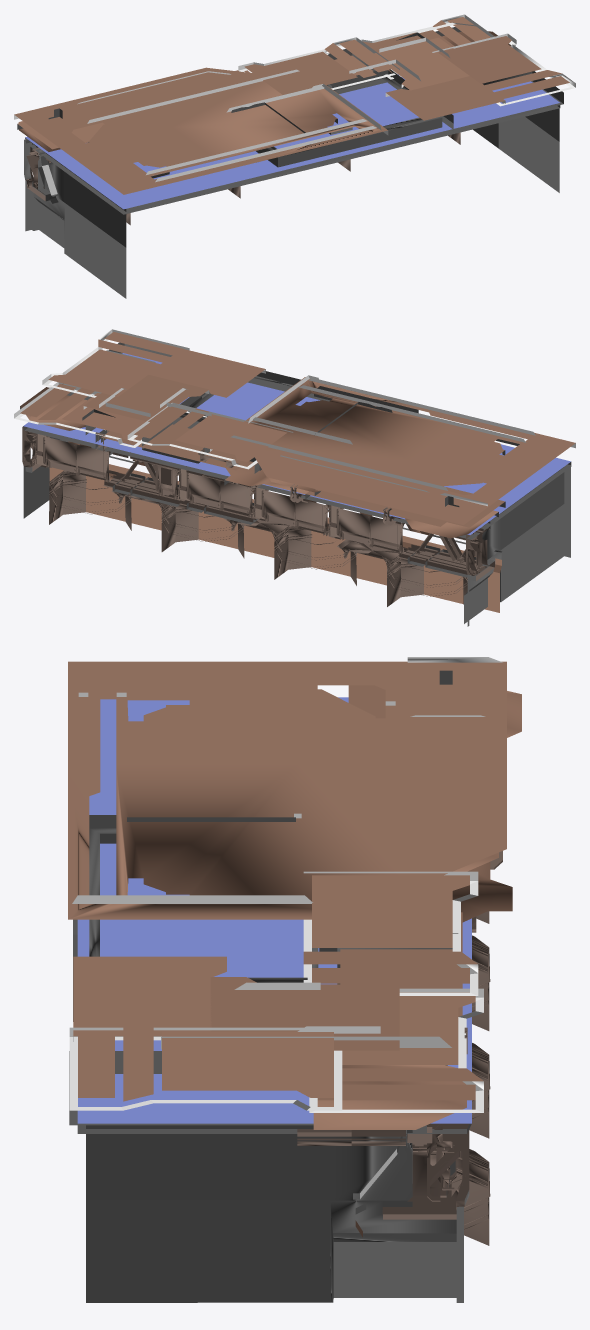
Rendered from lorville_city_plating_wall_b_a.glb.
3 renders of one model, top to bottom at view 1: azimuth 30°, elevation 25°; view 2: azimuth 150°, elevation 25°; view 3: azimuth 270°, elevation 25°, orthographic. The views are drawn at different scales.
Size of the model in its own units: 532 by 134 by 229.
